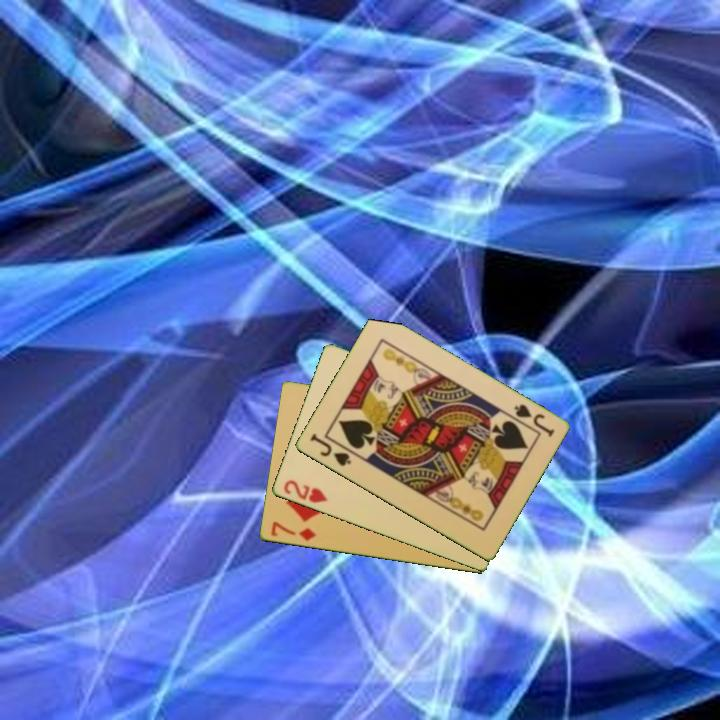2h: (280, 476, 330, 506)
7d: (267, 518, 319, 544)
Js: (306, 430, 354, 469), (510, 401, 557, 440)
